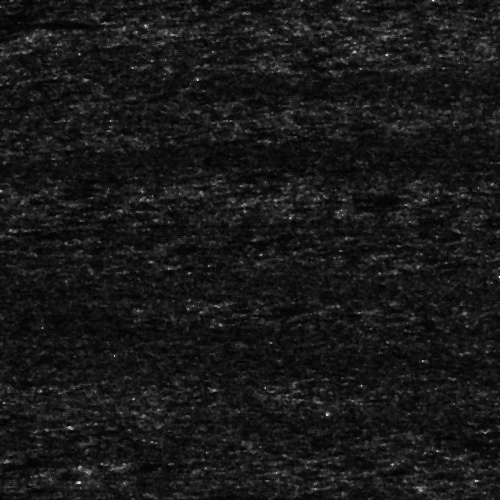object: (0, 18, 9, 27)
shadow: (0, 18, 101, 27)
